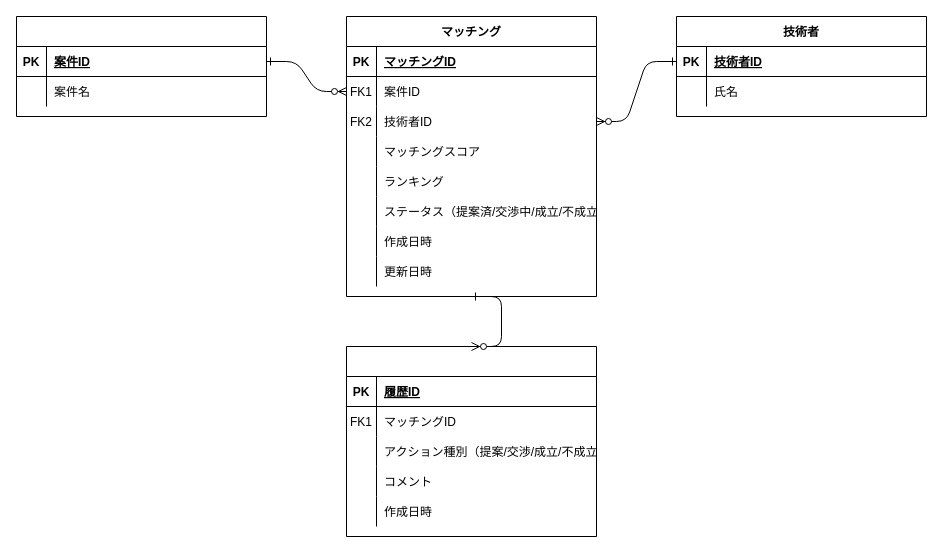
Some shapes in this 943 by 553 pixel diagram are drawn without their labels. Here are the shapes that lost their labels. From the top down, the box of each, then its label:
(16, 16, 266, 116): 案件
(346, 346, 596, 536): マッチング履歴
